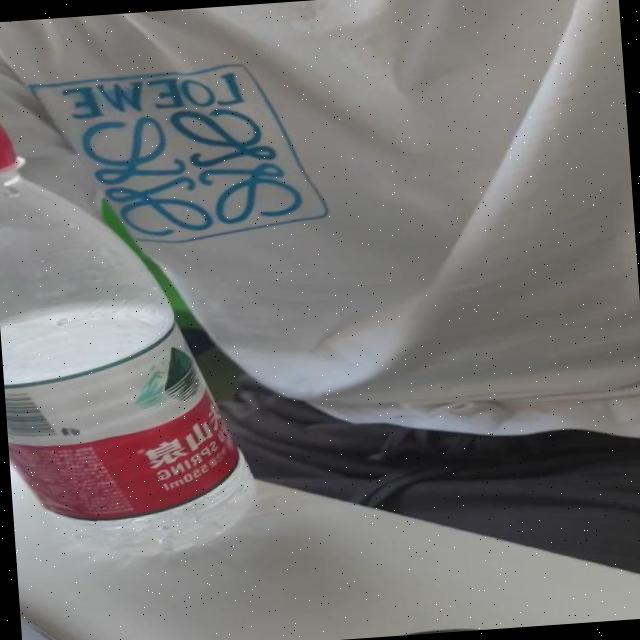bottle: (0, 91, 268, 582)
cap: (0, 113, 27, 188)
label: (1, 306, 256, 522)
